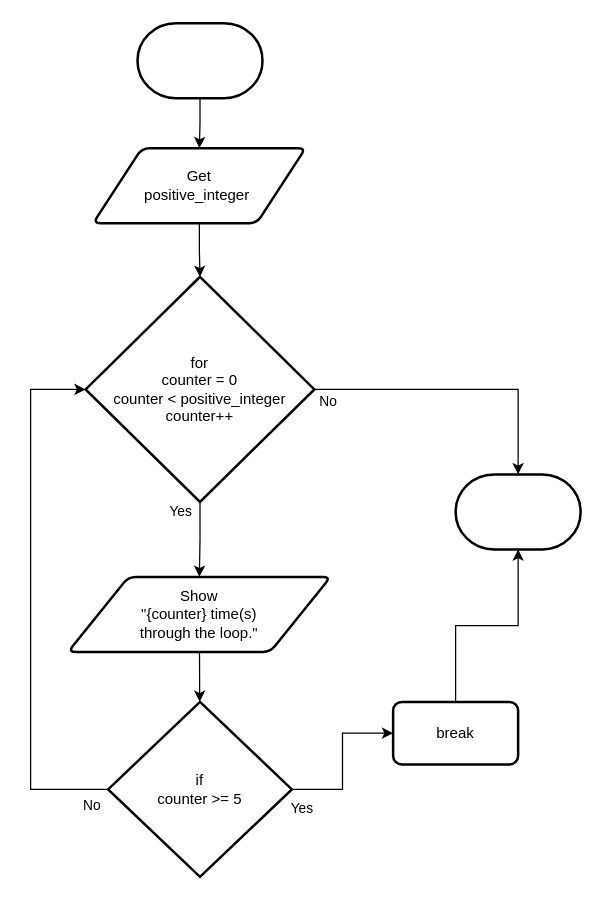
This 604x899 diagram has some shape labels left out. Each missing label, with the centre of its shape:
Start: the point at 199,60
Stop: the point at 517,511
